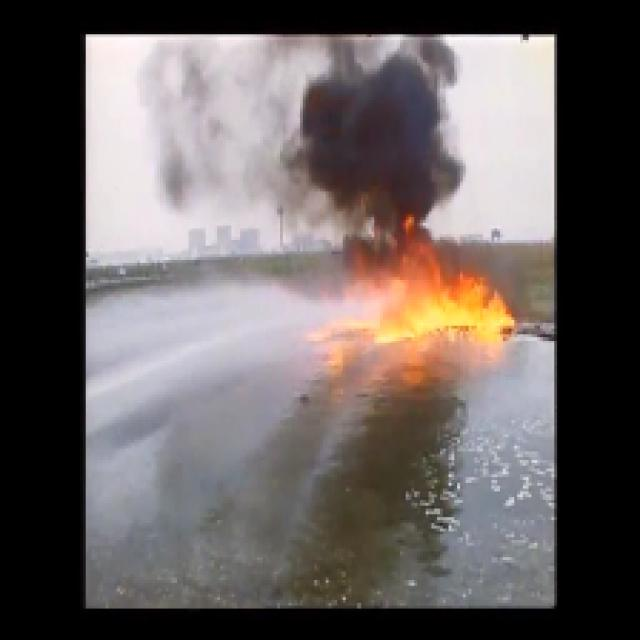fire: (381, 262, 520, 346)
smoke: (151, 43, 462, 221)
